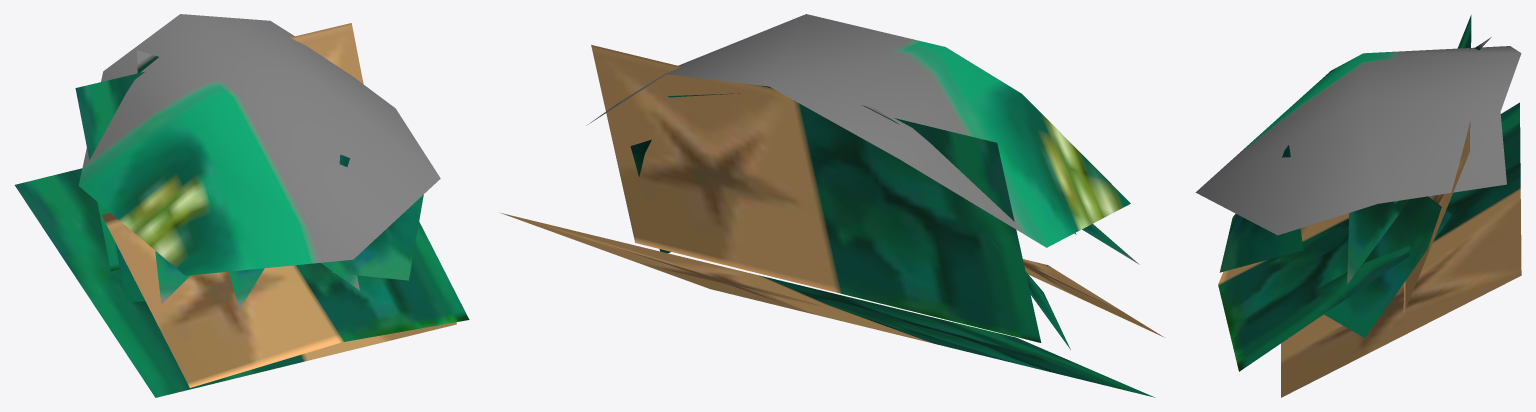
The model's file is fg_bushC_2_s.dae.
3 views of the same model, side by side, from view 1: azimuth 30°, elevation 25°; view 2: azimuth 150°, elevation 25°; view 3: azimuth 270°, elevation 25° (orthographic). The views are drawn at different scales.
Visible parts, largest first — view 1: fg_bushC_2_s; view 2: fg_bushC_2_s; view 3: fg_bushC_2_s.
Boxes of the visible parts, x1,y1,x2,y2 form: fg_bushC_2_s: (14,14,469,397); fg_bushC_2_s: (501,14,1164,397); fg_bushC_2_s: (1195,15,1521,397).
Size of the model in its own units: 47.83 by 34.27 by 38.04.
Materials: 1 (1 with a texture image).
